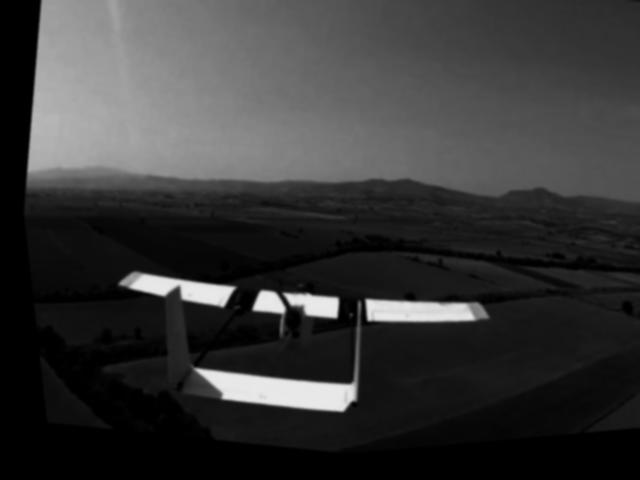hedef: (81, 235, 501, 469)
